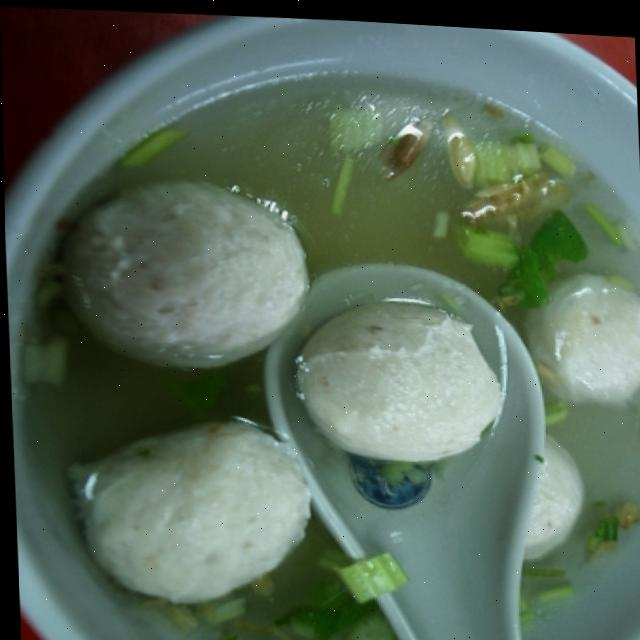熟制海鲜: (35, 85, 640, 640)
